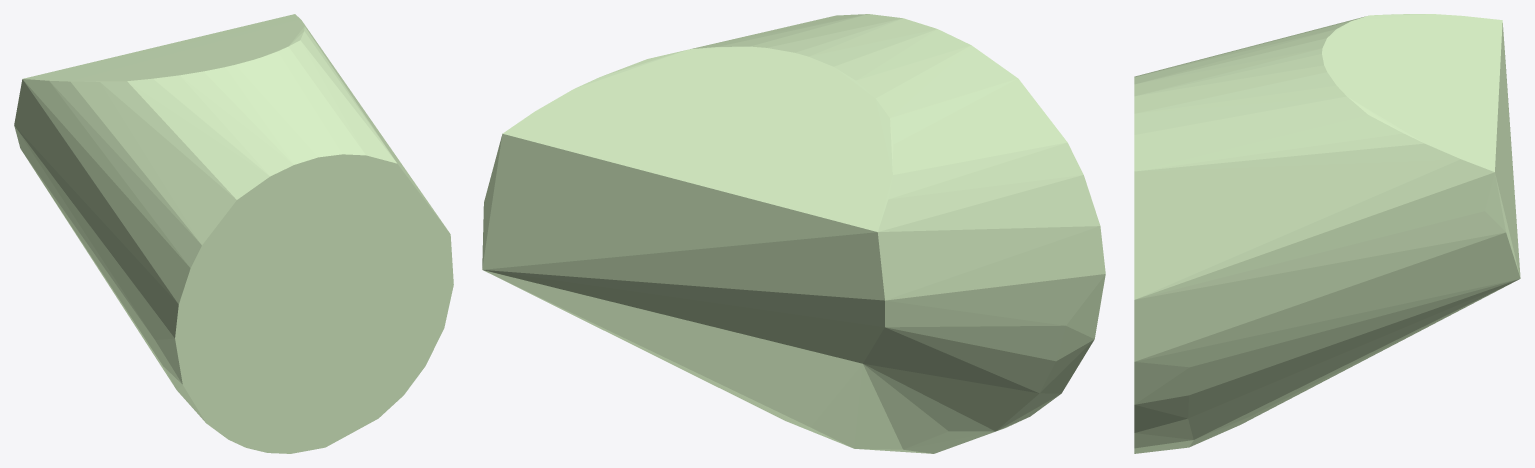
Rendered from iiwa_link3_resp_coll_2.obj.
3 views of the same model, side by side, from view 1: azimuth 30°, elevation 25°; view 2: azimuth 150°, elevation 25°; view 3: azimuth 270°, elevation 25° (orthographic). The views are drawn at different scales.
Parts seen in each view (by area): view 1: node; view 2: node; view 3: node.
Part boxes in pixels (x1,y1,x2,y2): node: [14, 14, 453, 453]; node: [482, 14, 1105, 453]; node: [1134, 14, 1520, 453].
Bounding box in the file's own units: 0.1387 × 0.1523 × 0.1392.
